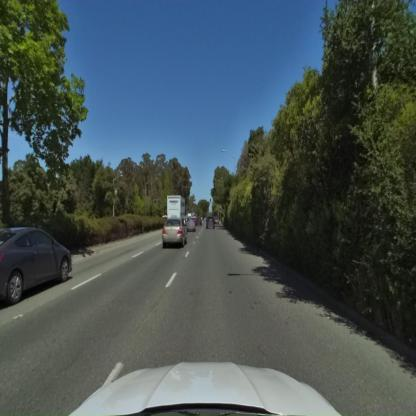car: (0, 224, 74, 308), (162, 218, 188, 249), (205, 213, 216, 233), (187, 215, 197, 231)
truck: (166, 186, 188, 223)
